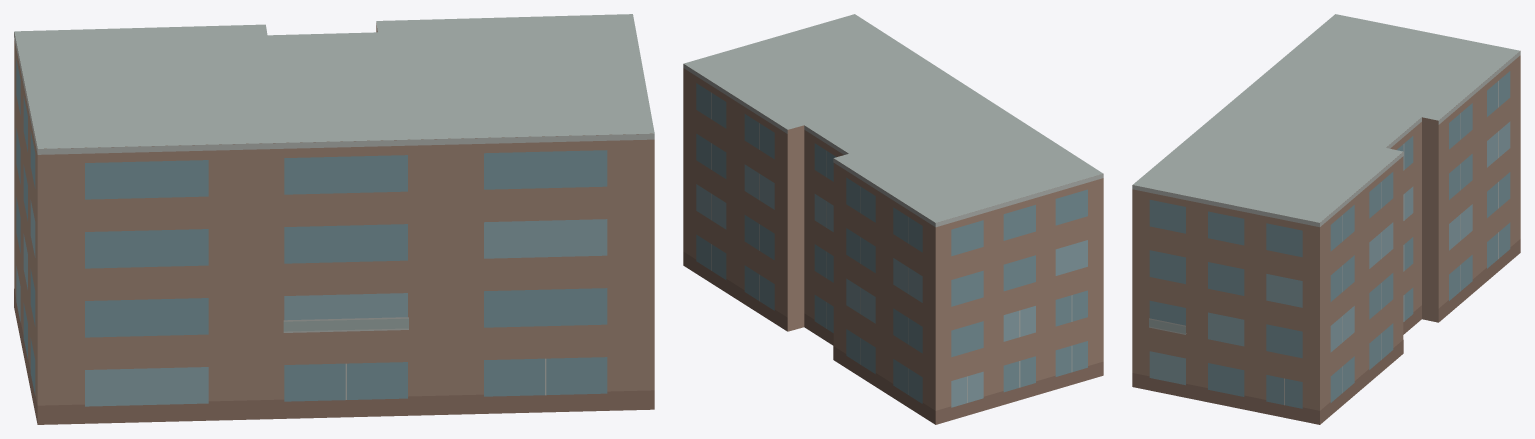
File: survey-upis-32980182.glb
3 renders of one model, left to right at view 1: azimuth 30°, elevation 25°; view 2: azimuth 150°, elevation 25°; view 3: azimuth 270°, elevation 25°, orthographic. The views are drawn at different scales.
Parts seen in each view (by area): view 1: survey-upis-32980182.tmp; view 2: survey-upis-32980182.tmp; view 3: survey-upis-32980182.tmp.
Part boxes in pixels (x1=…): survey-upis-32980182.tmp: x1=14, y1=14, x2=654, y2=424; survey-upis-32980182.tmp: x1=683, y1=14, x2=1103, y2=424; survey-upis-32980182.tmp: x1=1132, y1=14, x2=1520, y2=424.
Bounding box in the file's own units: 25.07 × 11.3 × 19.68.
